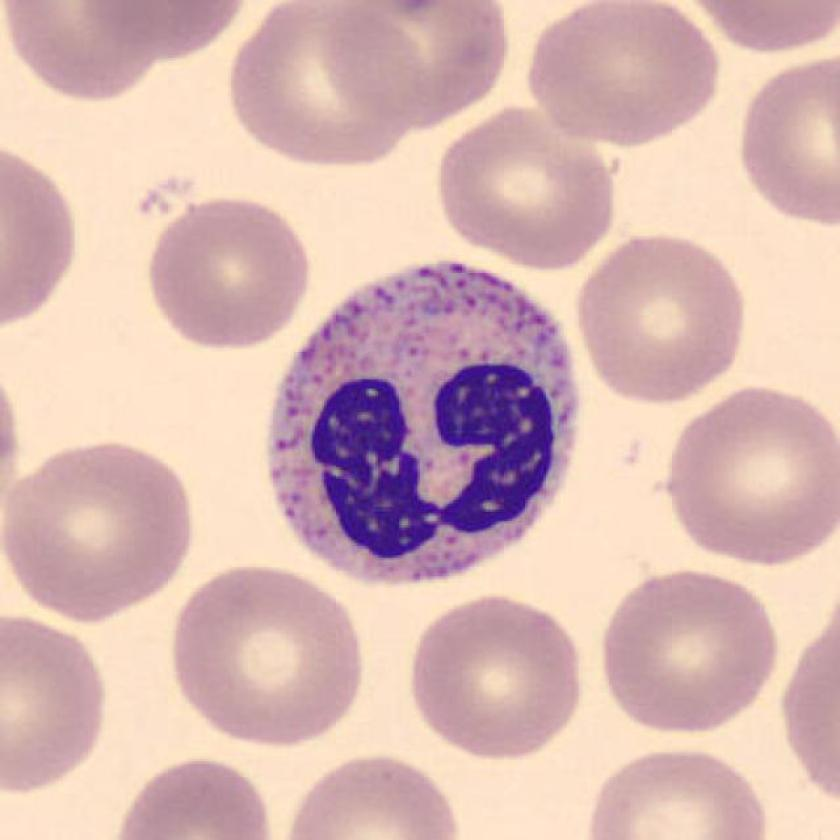neutrophil: (269, 264, 580, 584)
